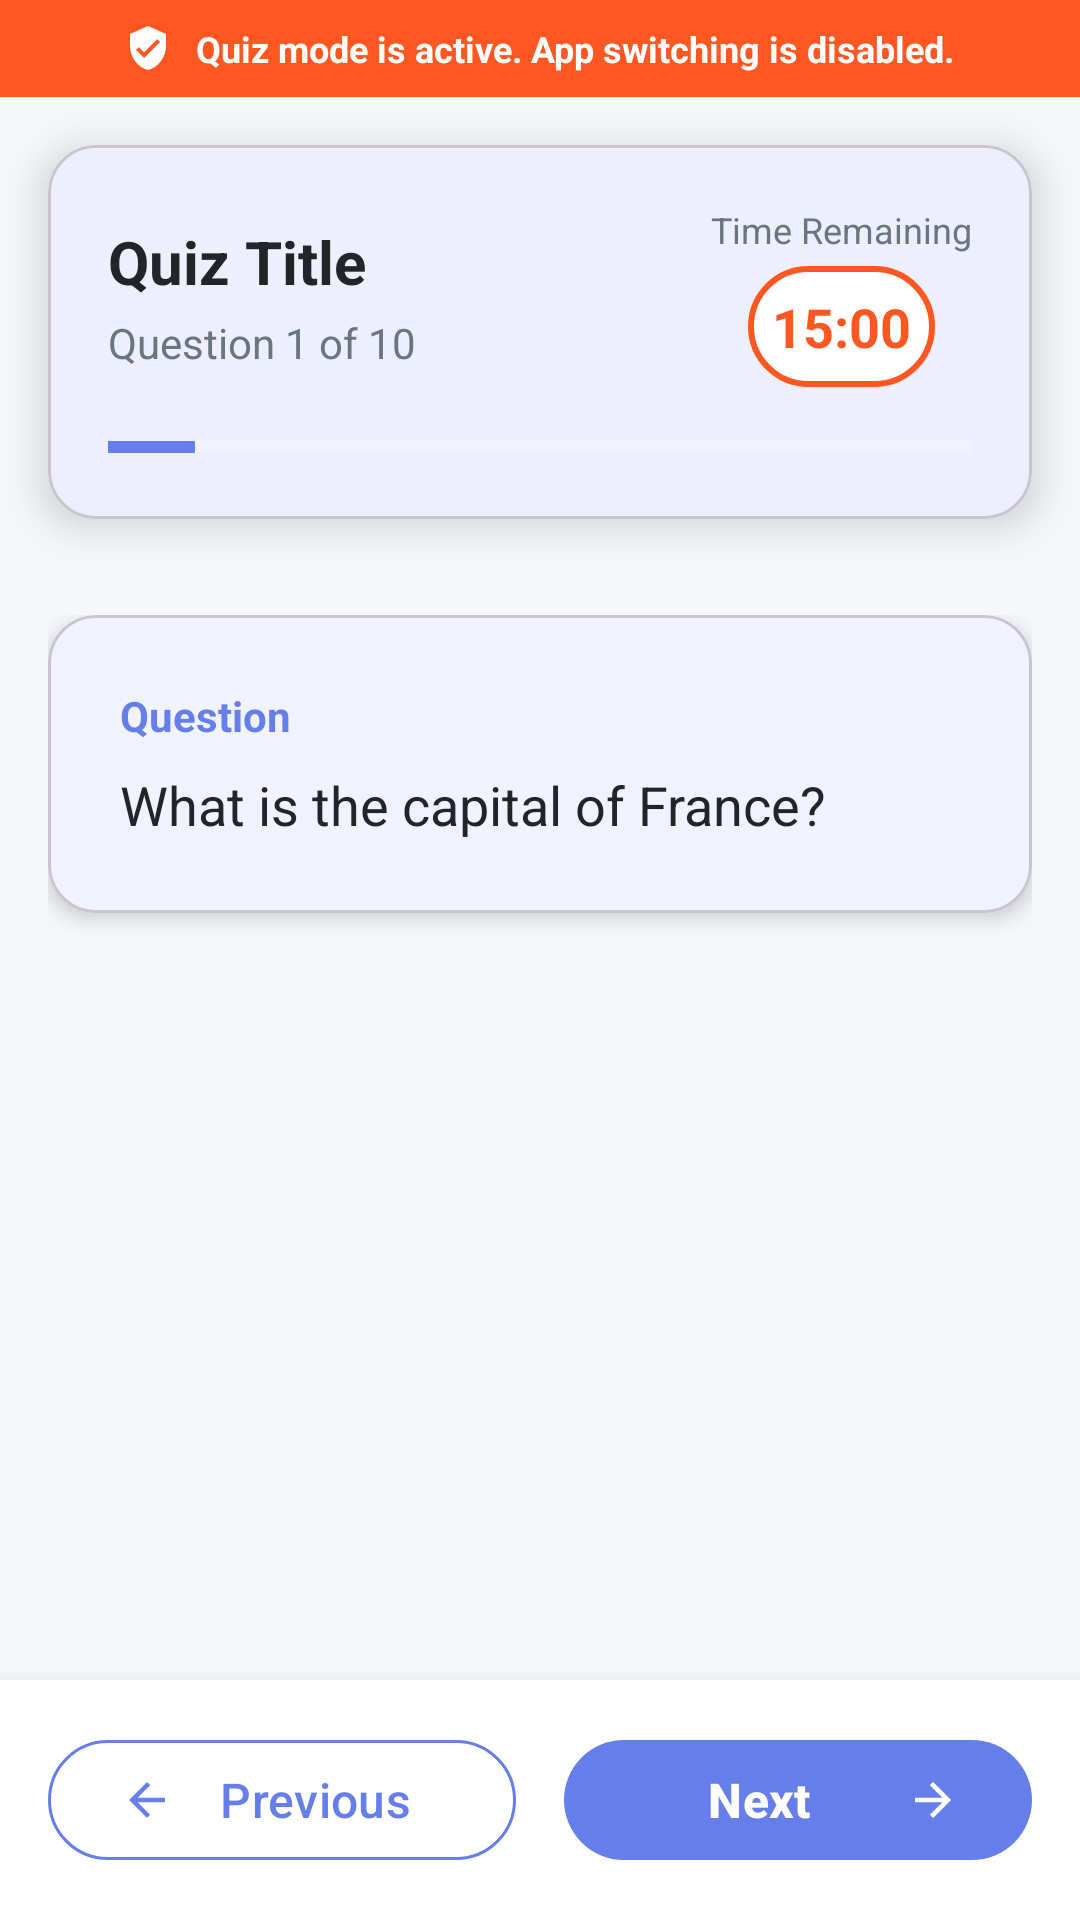

Where icons sit on this 1080px×1920px app screen, as [x1, y1, x2, y2]:
security: [130, 26, 166, 70]
